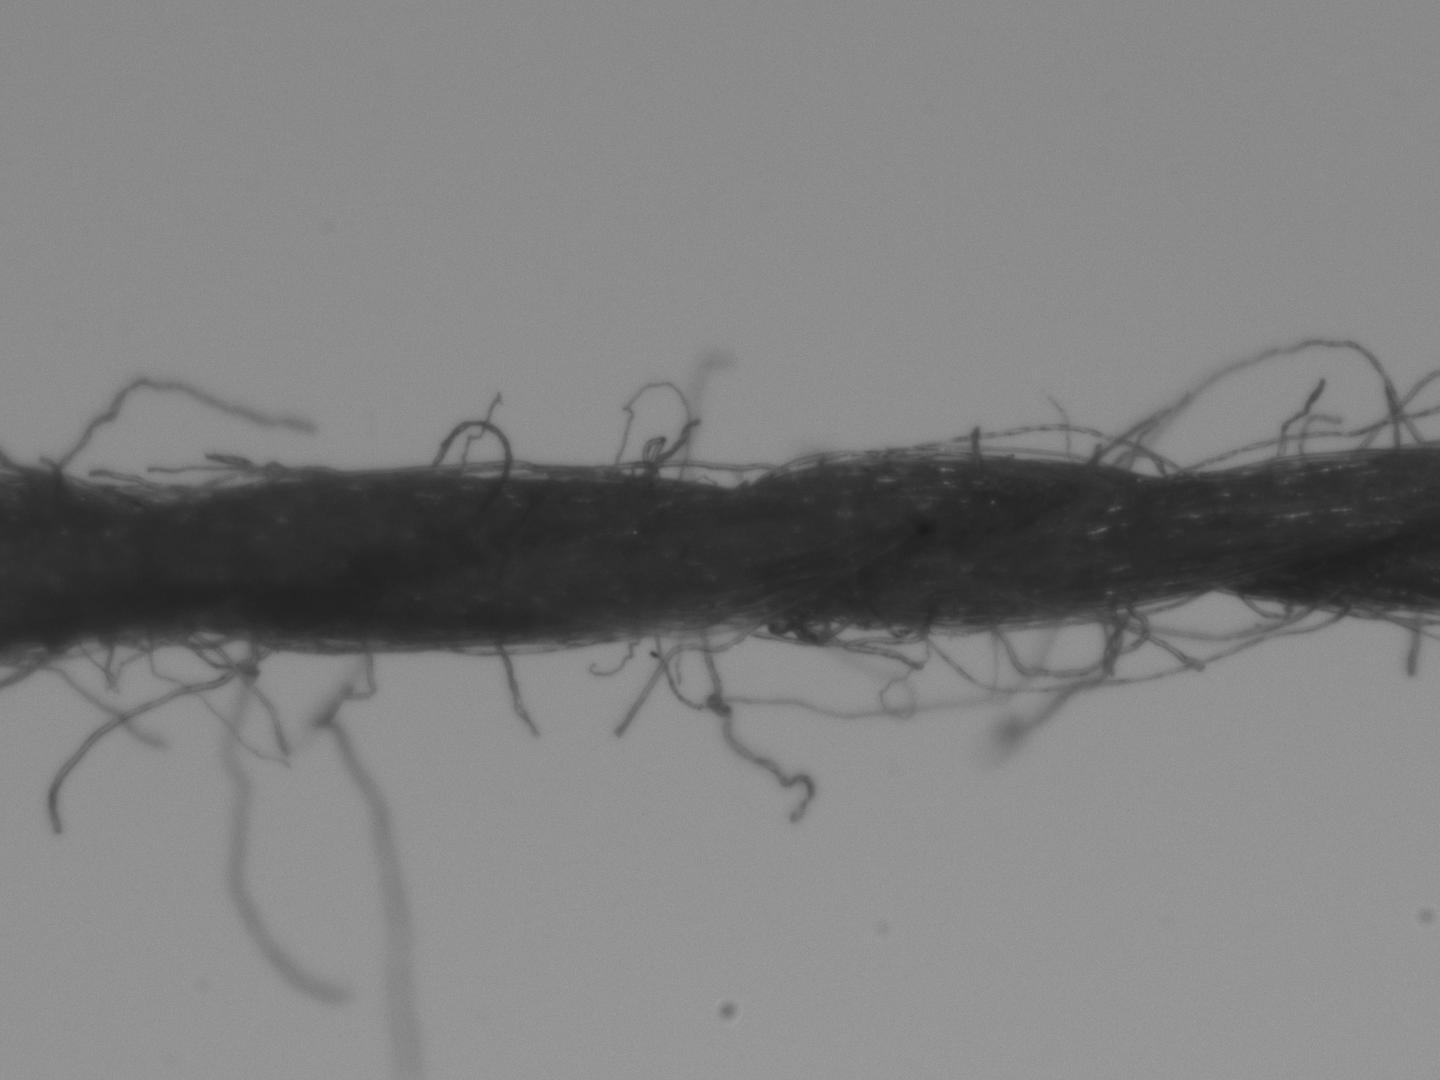loop_fiber: (873, 421, 1186, 480), (993, 599, 1142, 680), (610, 380, 693, 487), (425, 417, 510, 482), (190, 465, 324, 506), (170, 626, 257, 675), (657, 457, 781, 489), (779, 607, 859, 644), (1228, 591, 1293, 621)
protruding_fiber: (48, 642, 280, 835), (44, 374, 316, 479), (701, 631, 812, 827), (489, 642, 541, 737), (1406, 611, 1425, 683)
